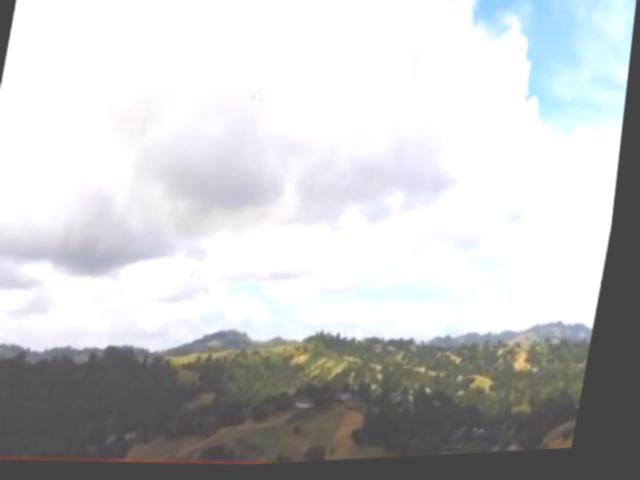iha: (250, 91, 269, 107)
